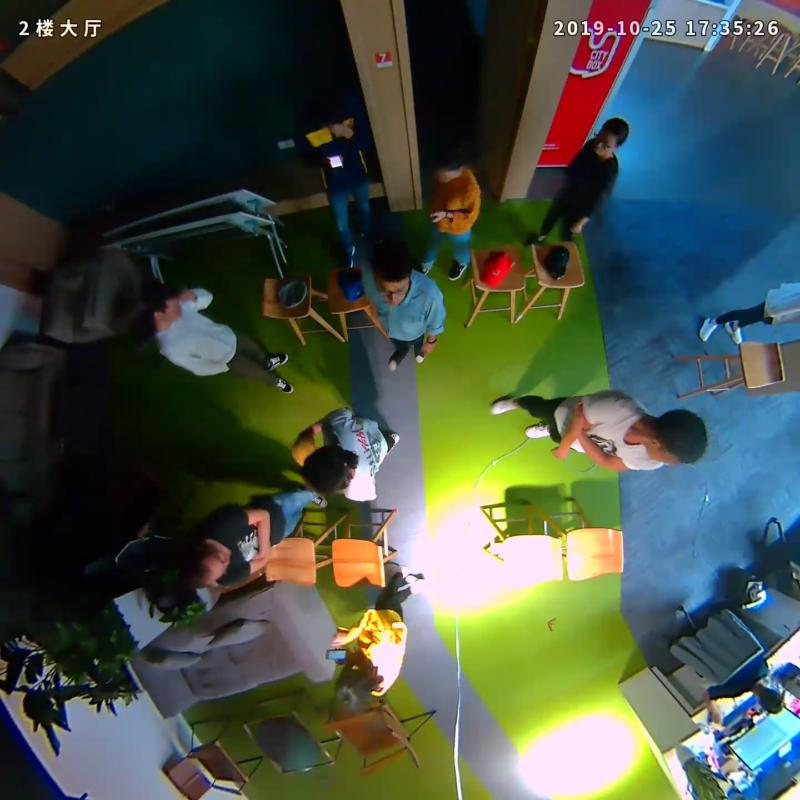head: (646, 408, 709, 465), (372, 240, 412, 306), (178, 539, 232, 587), (300, 445, 354, 492), (334, 663, 377, 709), (137, 283, 181, 320), (429, 137, 465, 182), (299, 73, 337, 115), (590, 117, 628, 158)
